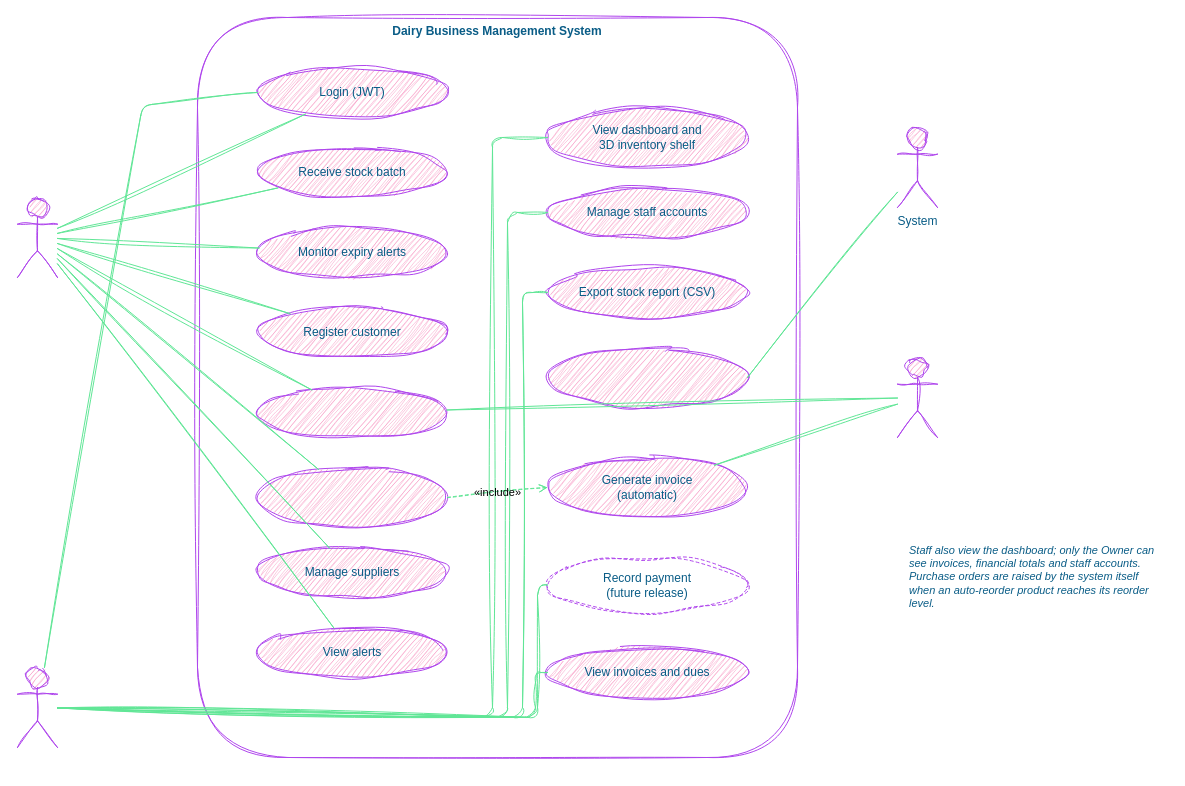
Image size: 1185x786. Some labels were removed from this diagram. Here are the shapes that lost their labels. From the top down, the centre of each, then its label:
At point 37,237: "Staff".
At point 647,377: "Raise purchase order (automatic reorder)".
At point 917,397: "Customer".
At point 352,412: "Place order".
At point 352,497: "Update order status (pending / processed / delivered)".
At point 37,707: "Owner".
